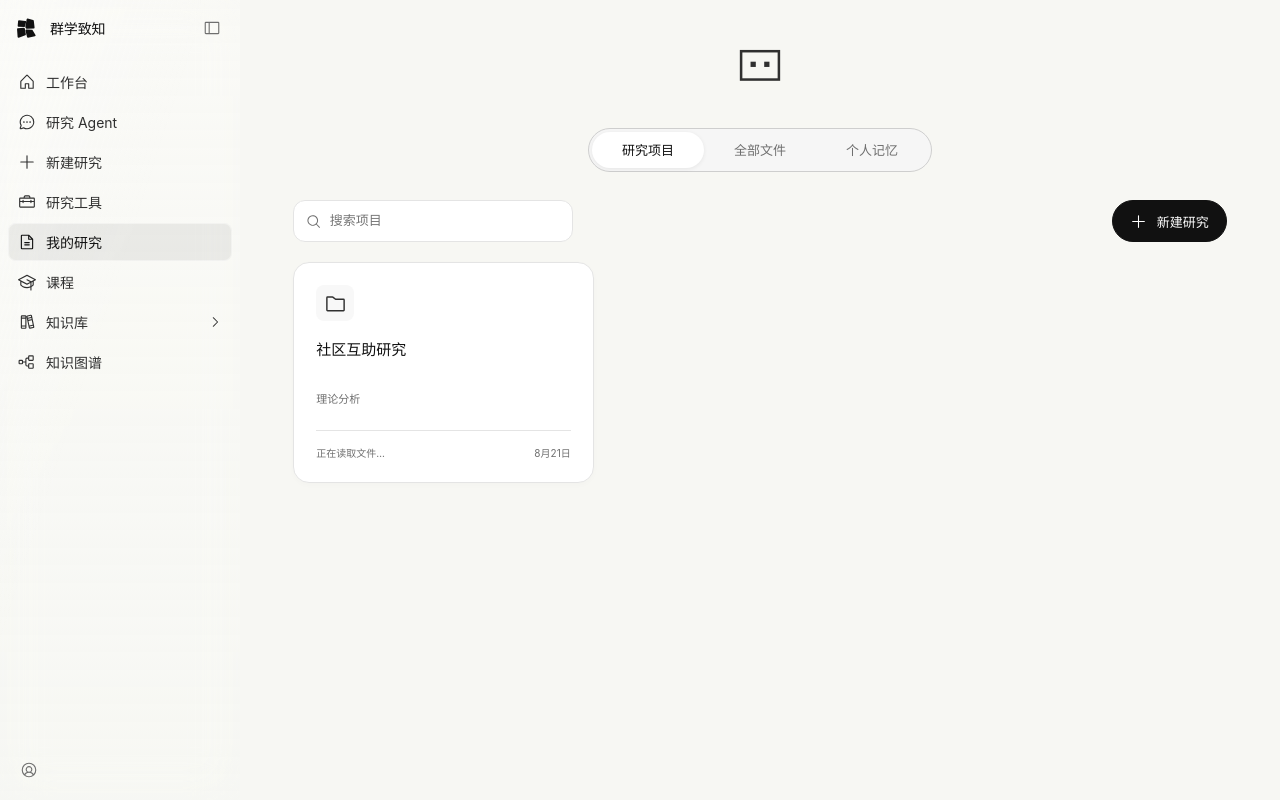
Test case: App routes › opens a project folder in file management through the real app route
Click the link with aria-label "打开研究 社区互助研究": (335, 303) [293,262,594,483]
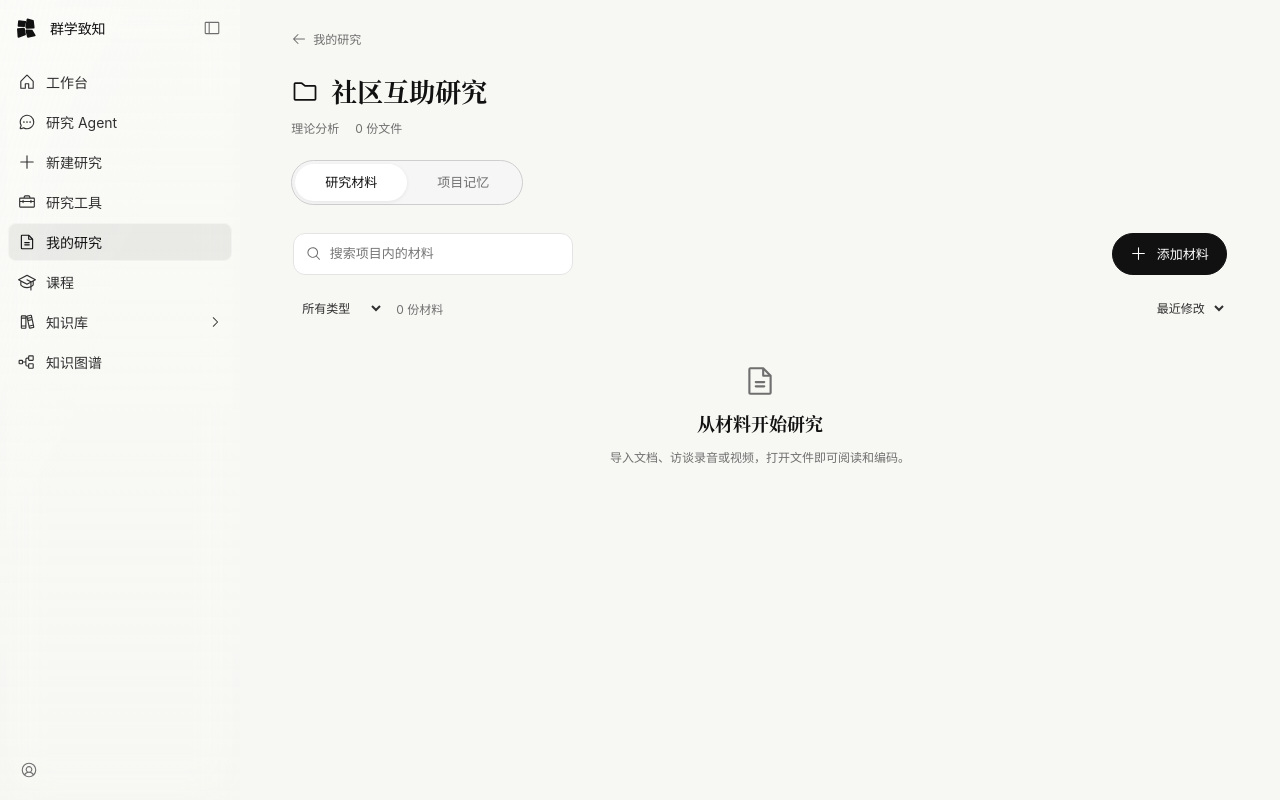
Expected: the heading "社区互助研究" is shown, [331,73,487,109]
Expected: the button "添加材料" is shown, [1112,233,1227,275]
